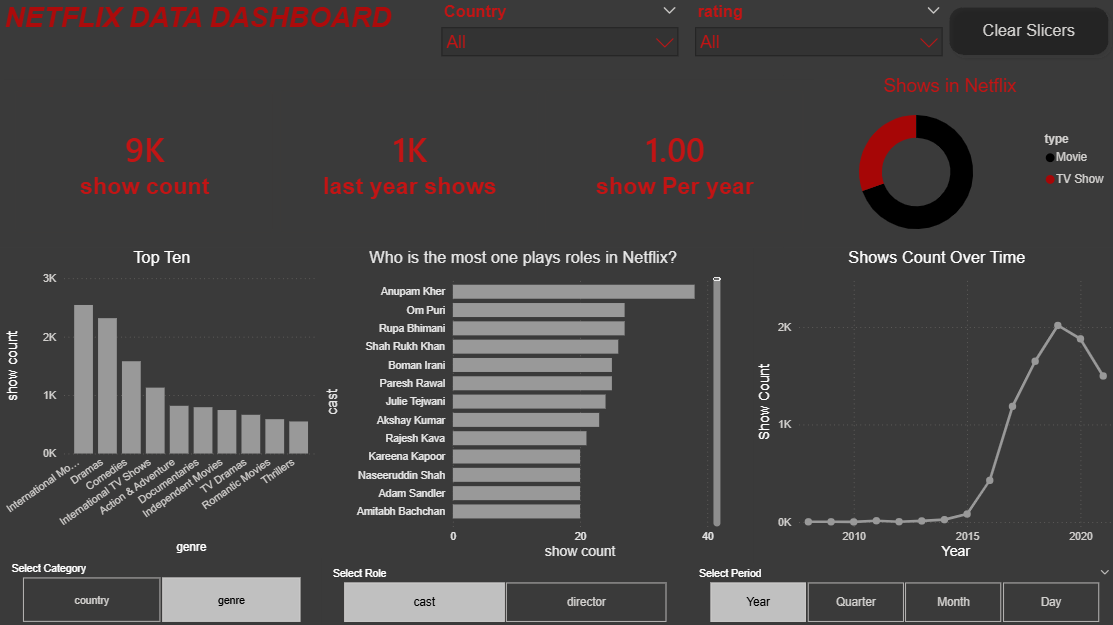

The dashboard page shown, as its layout file describes it:
{"tool":"powerbi","page":{"name":"DashBoard","canvas":[1280,720],"ordinal":0},"visuals":[{"type":"slicer","fields":{"Values":["show_country.country"]},"box":[494,0,291,74.1],"z":0},{"type":"textbox","box":[0,0,459.7,60.4],"z":1000},{"type":"slicer","fields":{"Values":["show_info.rating"]},"box":[784.3,0,302.9,74.3],"z":1001},{"type":"actionButton","box":[1075.8,1.4,200.3,72.7],"z":1002},{"type":"donutChart","title":"Shows in Netflix","fields":{"Category":["show_info.type"],"Y":["CountNonNull(show_info.type)"]},"box":[895.7,88.6,380,197.1],"z":1003},{"type":"cardVisual","fields":{"Data":["_Measure.show count","_Measure.LastYear","_Measure.show Per year"]},"box":[0,88.6,935.7,197.1],"z":1004},{"type":"clusteredBarChart","title":"Who is the most one plays roles in Netflix?","fields":{"Y":["_Measure.show count"],"Category":["show_cast.cast"]},"box":[367.1,285.7,461.4,360],"z":1005},{"type":"slicer","fields":{"Values":["Parameter.Parameter"]},"box":[367.1,645.7,418.6,74.3],"z":1006},{"type":"lineChart","title":"Shows Count Over Time","fields":{"Y":["CountNonNull(show_info.show_id)"],"Category":["show_info.date_added.Variation.Date Hierarchy.Year"]},"box":[861.4,285.7,418.6,360],"z":1007},{"type":"slicer","fields":{"Values":["Parameter.Parameter"]},"box":[785.7,645.7,494.3,74.3],"z":1008},{"type":"clusteredColumnChart","title":"Top Ten ","fields":{"Category":["show_genre.genre"],"Y":["_Measure.show count"]},"box":[1.4,285.7,367.1,354.3],"z":1009},{"type":"slicer","fields":{"Values":["Parameter 2.Parameter"]},"box":[0,640,367.1,80],"z":1010}]}

Visuals, with their boxes in screenshot pixels (x1, y1, x2, y2), scaled from the page's 1280x720 canvas onto the 1113x625 screenshot:
slicer - show_country.country: (430,0,683,64)
textbox: (0,0,400,52)
slicer - show_info.rating: (682,0,945,64)
actionButton: (935,1,1110,64)
"Shows in Netflix" donutChart: (779,77,1109,248)
cardVisual - _Measure.show count x _Measure.LastYear: (0,77,814,248)
"Who is the most one plays roles in Netflix?" clusteredBarChart: (319,248,720,561)
slicer - Parameter.Parameter: (319,561,683,624)
"Shows Count Over Time" lineChart: (749,248,1112,561)
slicer - Parameter.Parameter: (683,561,1112,624)
"Top Ten " clusteredColumnChart: (1,248,320,556)
slicer - Parameter 2.Parameter: (0,556,319,624)
